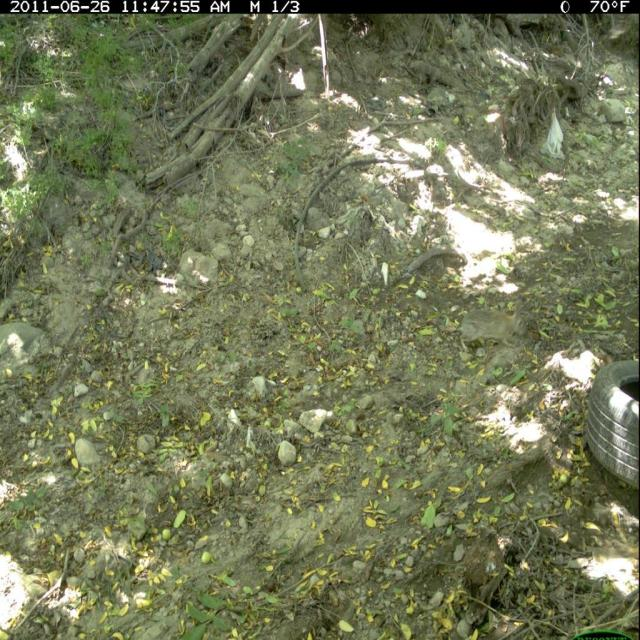rabbit: (441, 282, 571, 390)
